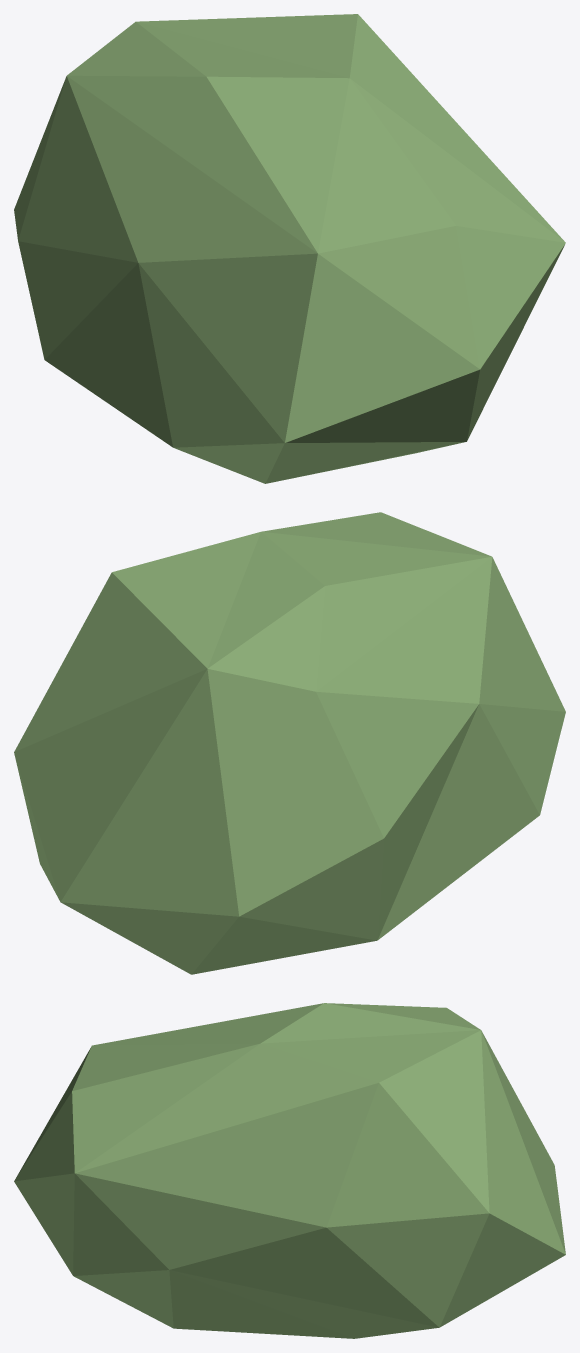
Rendered from Rock_A_003.fbx.
The picture shows the model from 3 angles, top to bottom: view 1: azimuth 30°, elevation 25°; view 2: azimuth 150°, elevation 25°; view 3: azimuth 270°, elevation 25°; orthographic projection. The views are drawn at different scales.
Parts seen in each view (by area): view 1: Rock A.003; view 2: Rock A.003; view 3: Rock A.003.
Boxes of the visible parts, x1,y1,x2,y2 form: Rock A.003: [14, 14, 565, 483]; Rock A.003: [14, 512, 565, 974]; Rock A.003: [14, 1003, 565, 1338].
Size of the model in its own units: 25.46 by 23.13 by 39.84.
